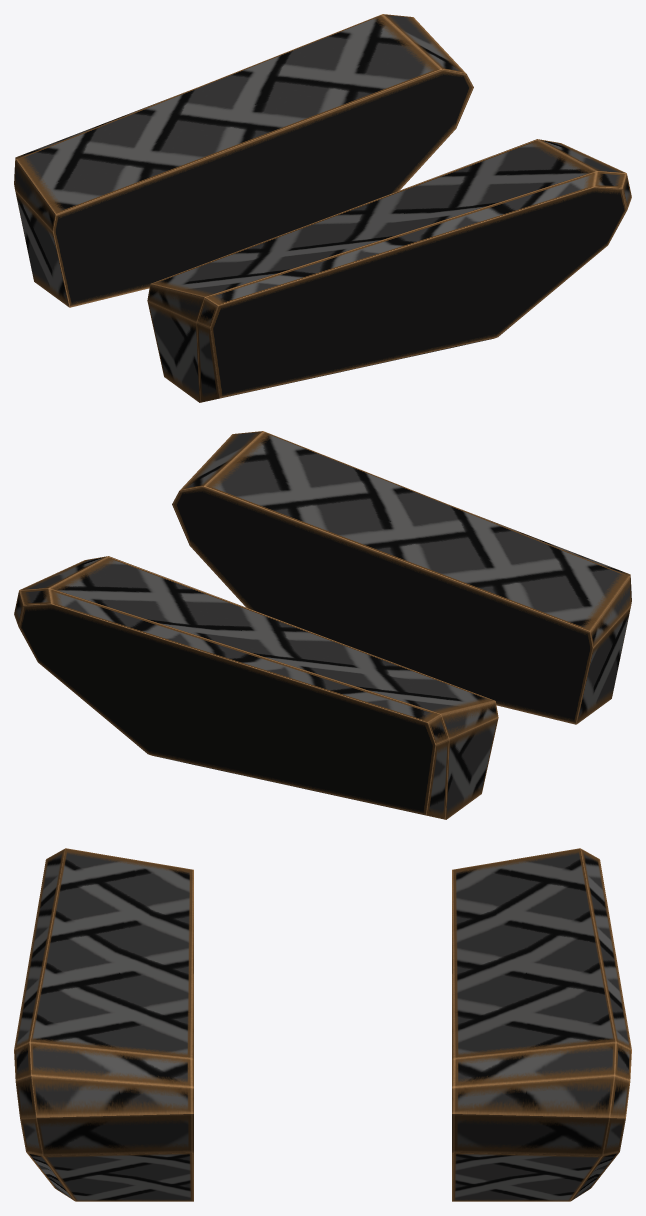
File: Tanks0001.fbx
3 views of the same model, one above another, from view 1: azimuth 30°, elevation 25°; view 2: azimuth 150°, elevation 25°; view 3: azimuth 270°, elevation 25° (orthographic). The views are drawn at different scales.
Parts seen in each view (by area): view 1: Wheel; view 2: Wheel; view 3: Wheel.
Part boxes in pixels (x1,y1,x2,y2): Wheel: (14,14,631,402); Wheel: (14,431,631,819); Wheel: (14,848,631,1201).
Size of the model in its own units: 298 by 106 by 273.
Materials: 1 (1 with a texture image).
